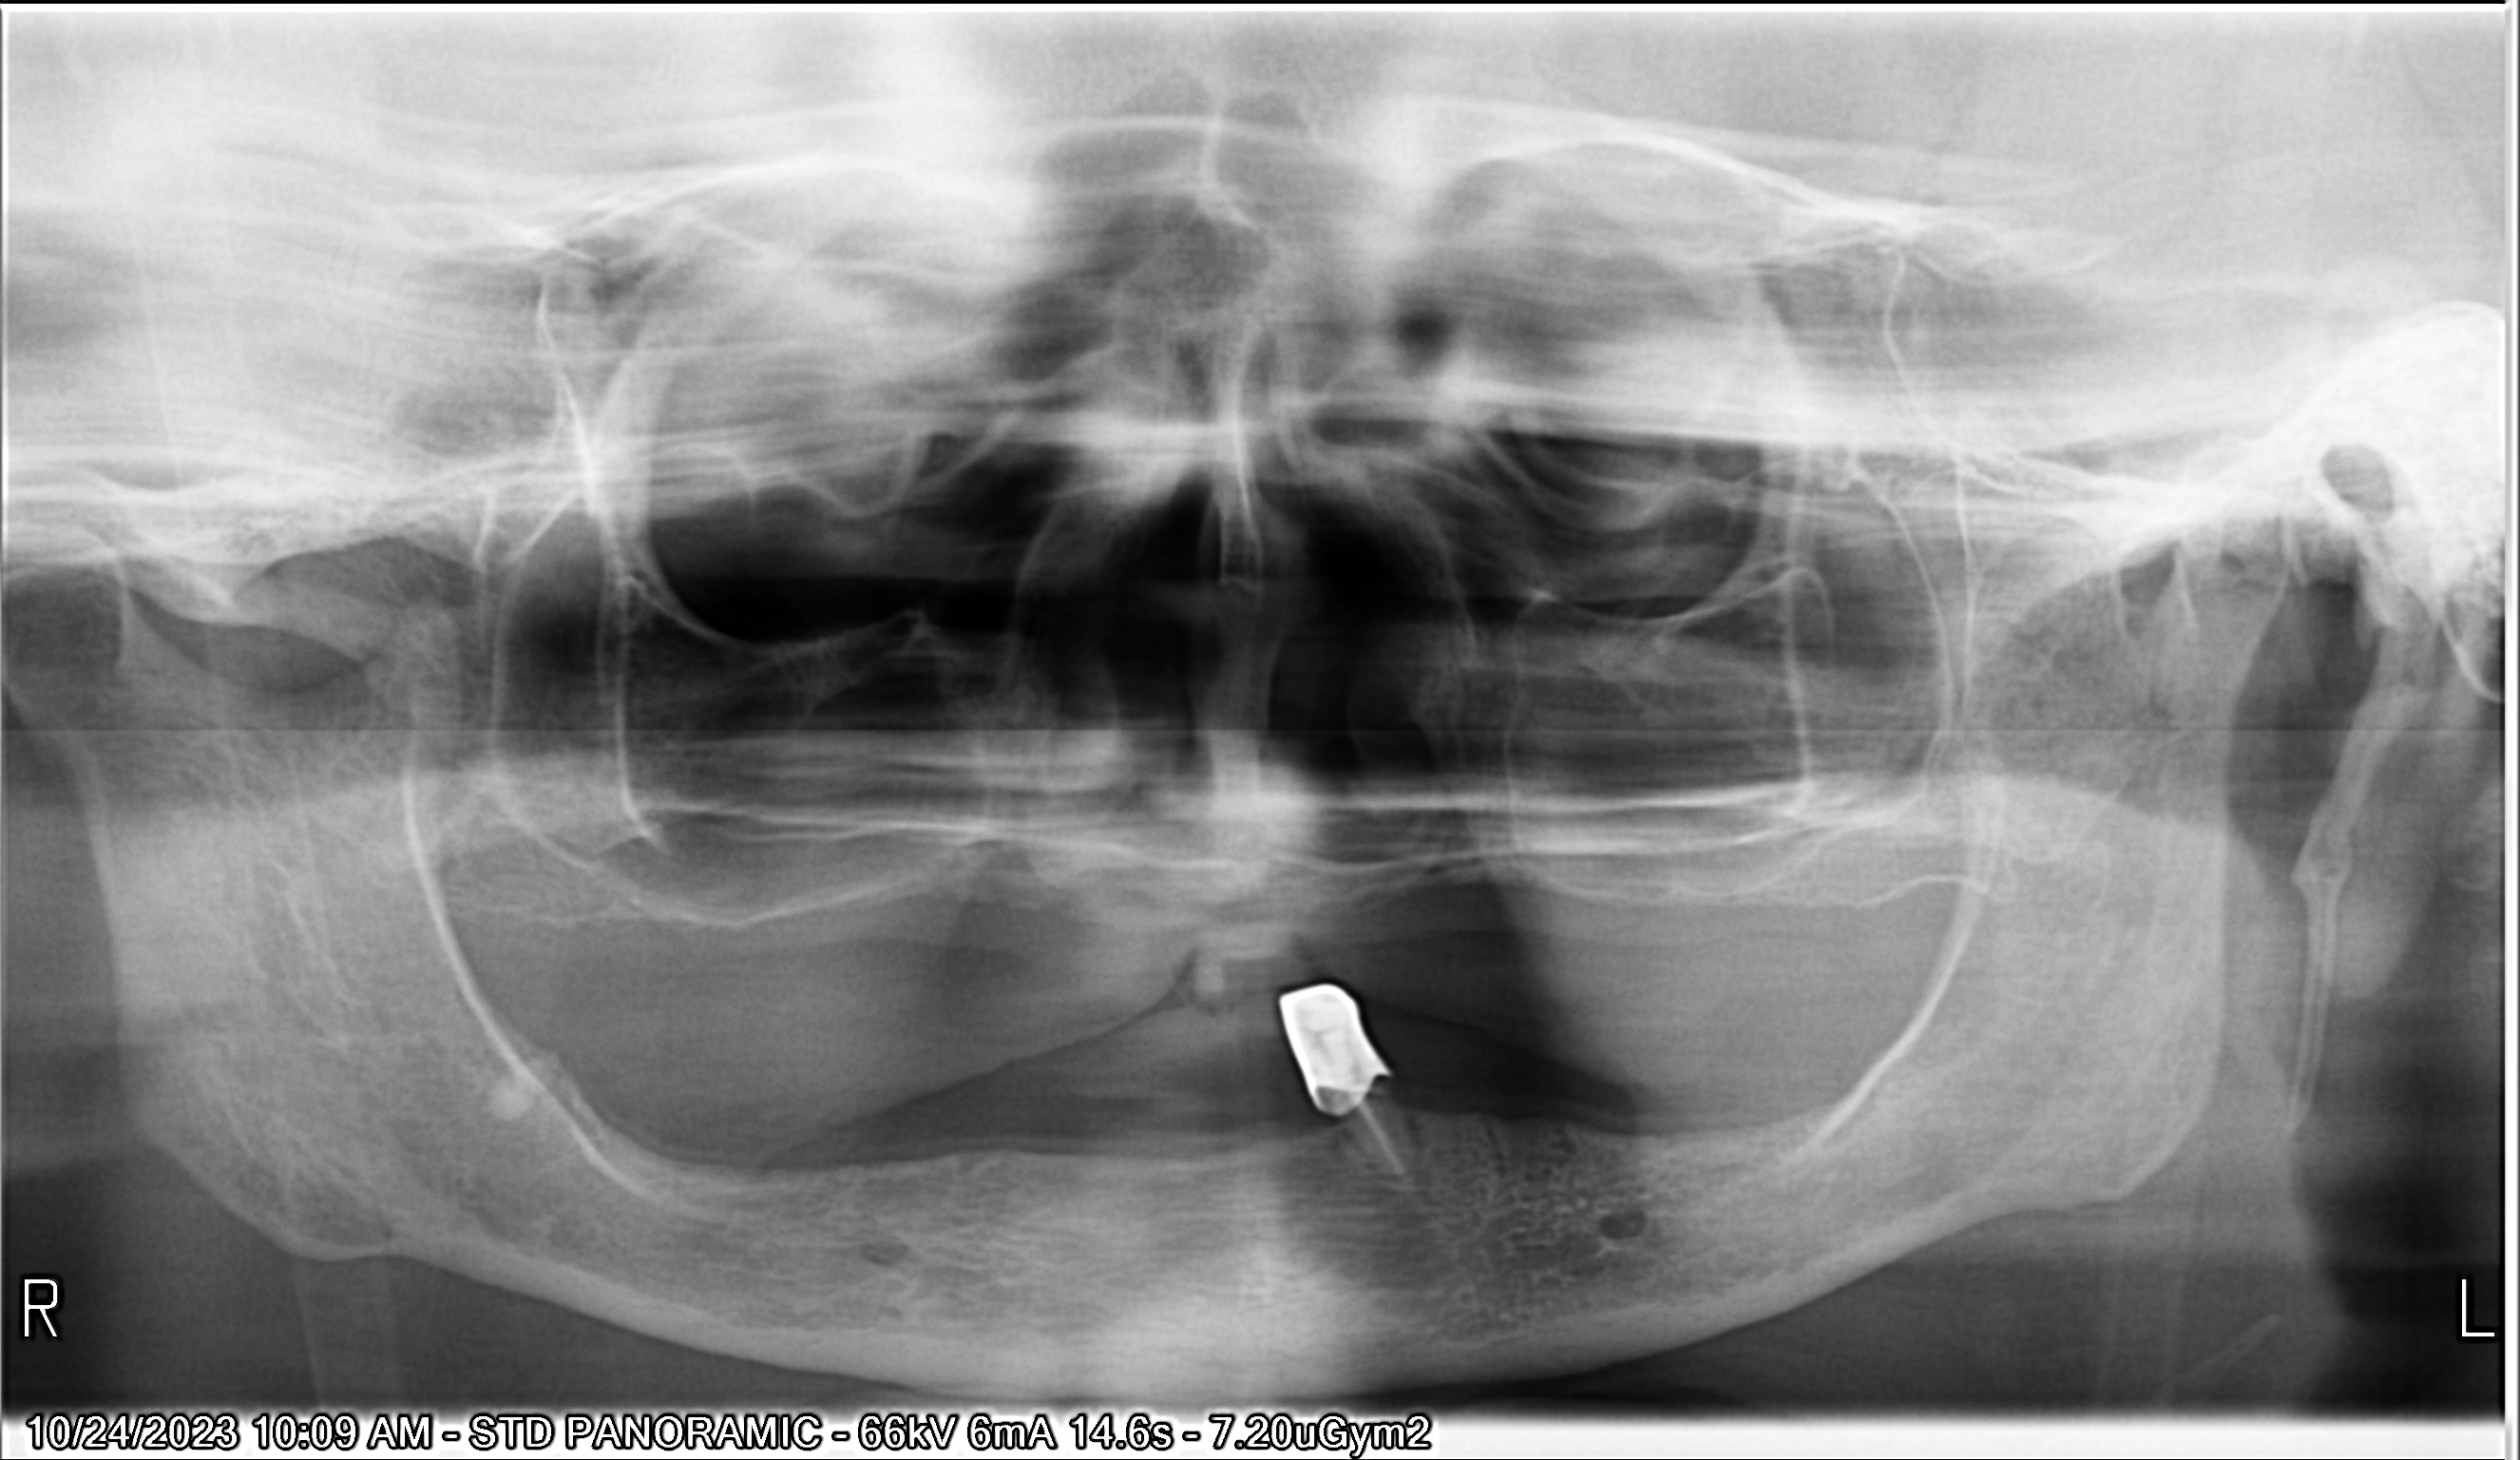END: (1337, 1078, 1424, 1213)
PRR: (1259, 968, 1417, 1135)
